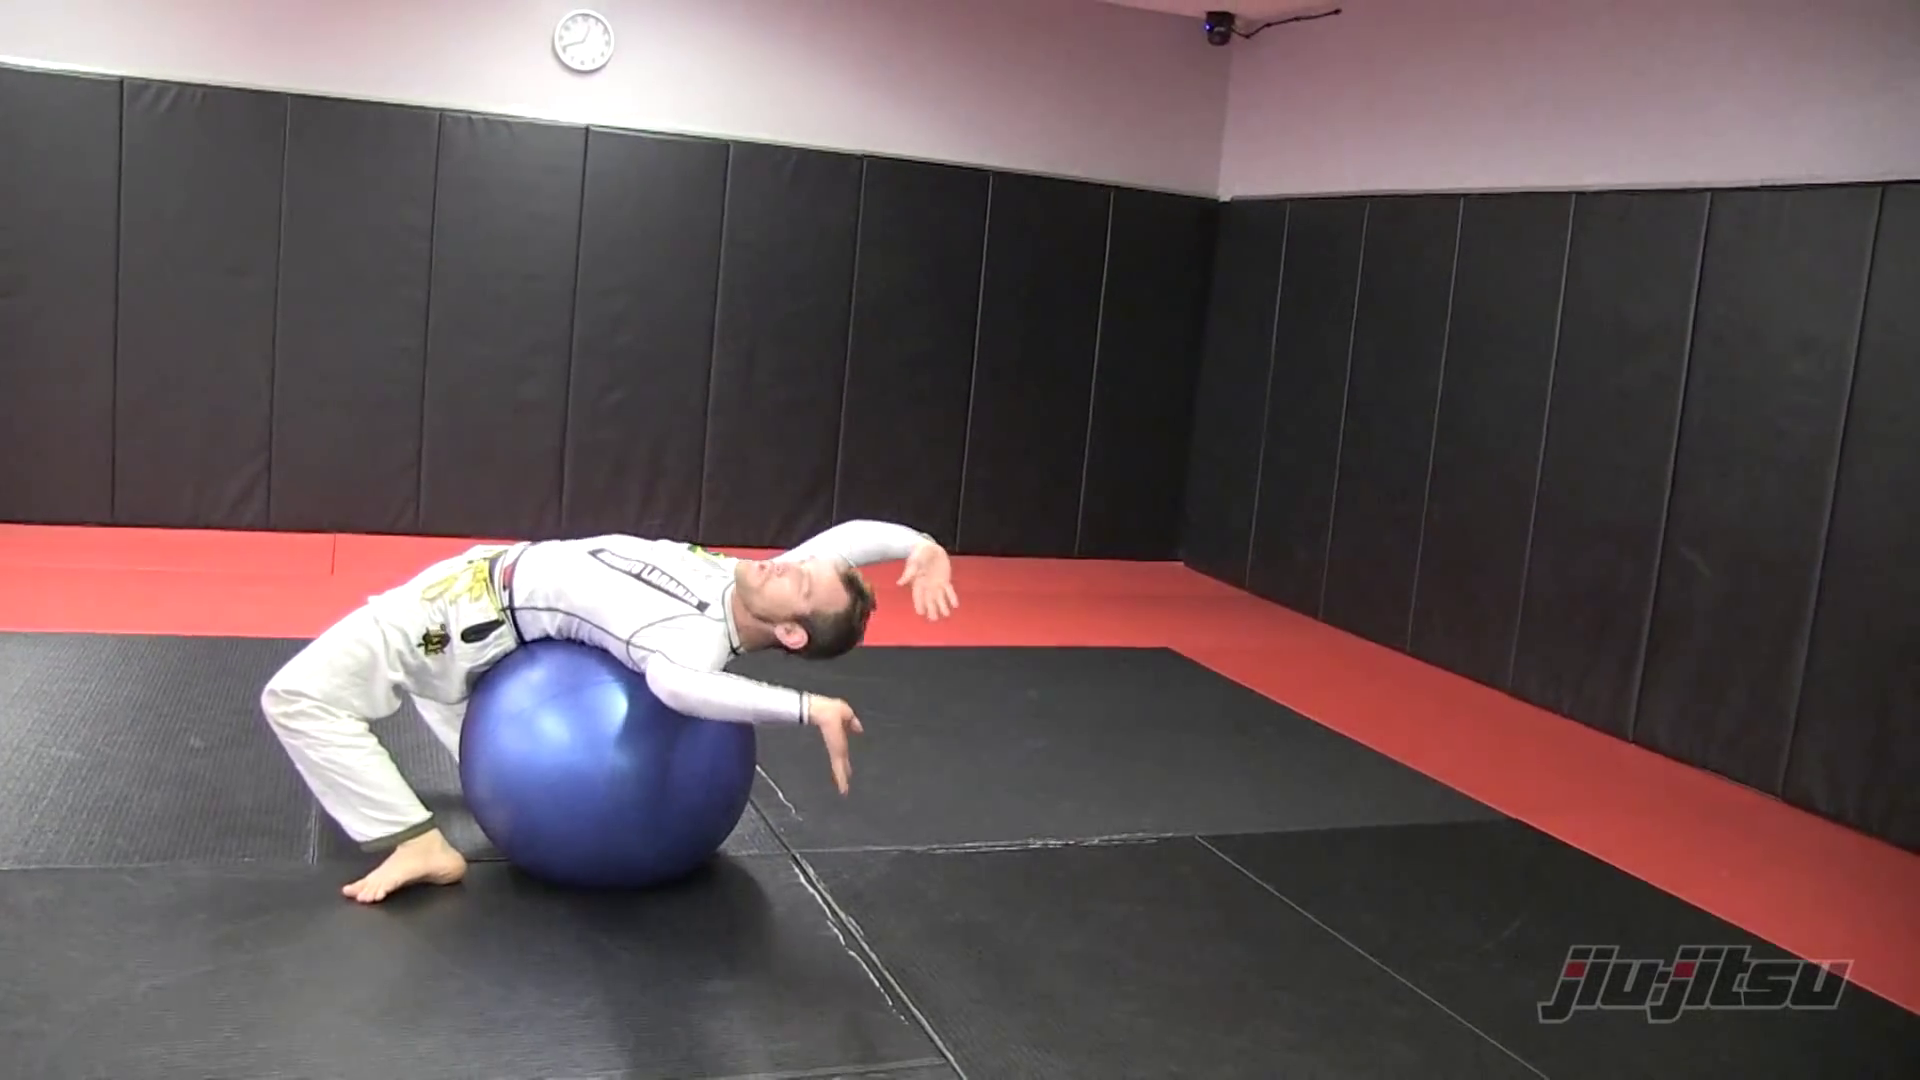yogaball: (427, 626, 781, 897)
